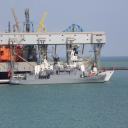Fragata: (9, 50, 108, 87)
